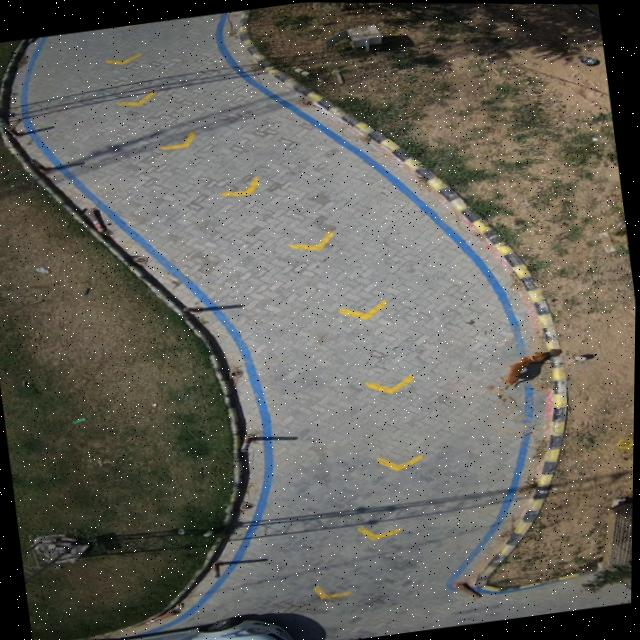car: (162, 617, 304, 640)
